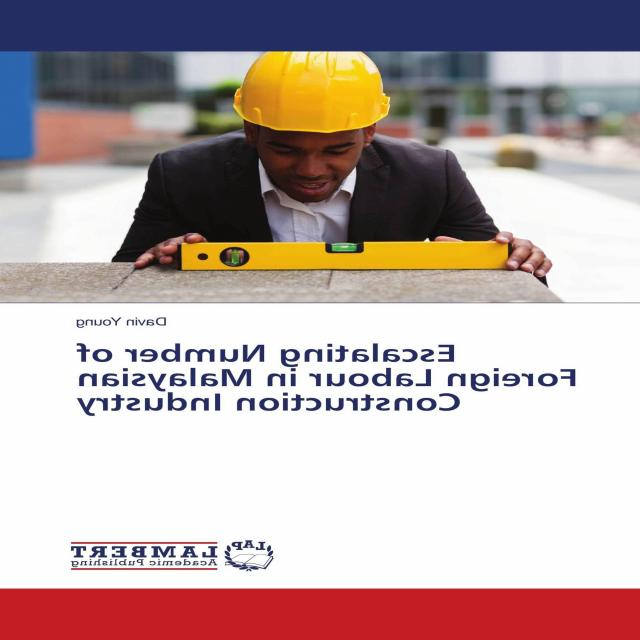Safety-Helmet: (230, 52, 394, 133)
